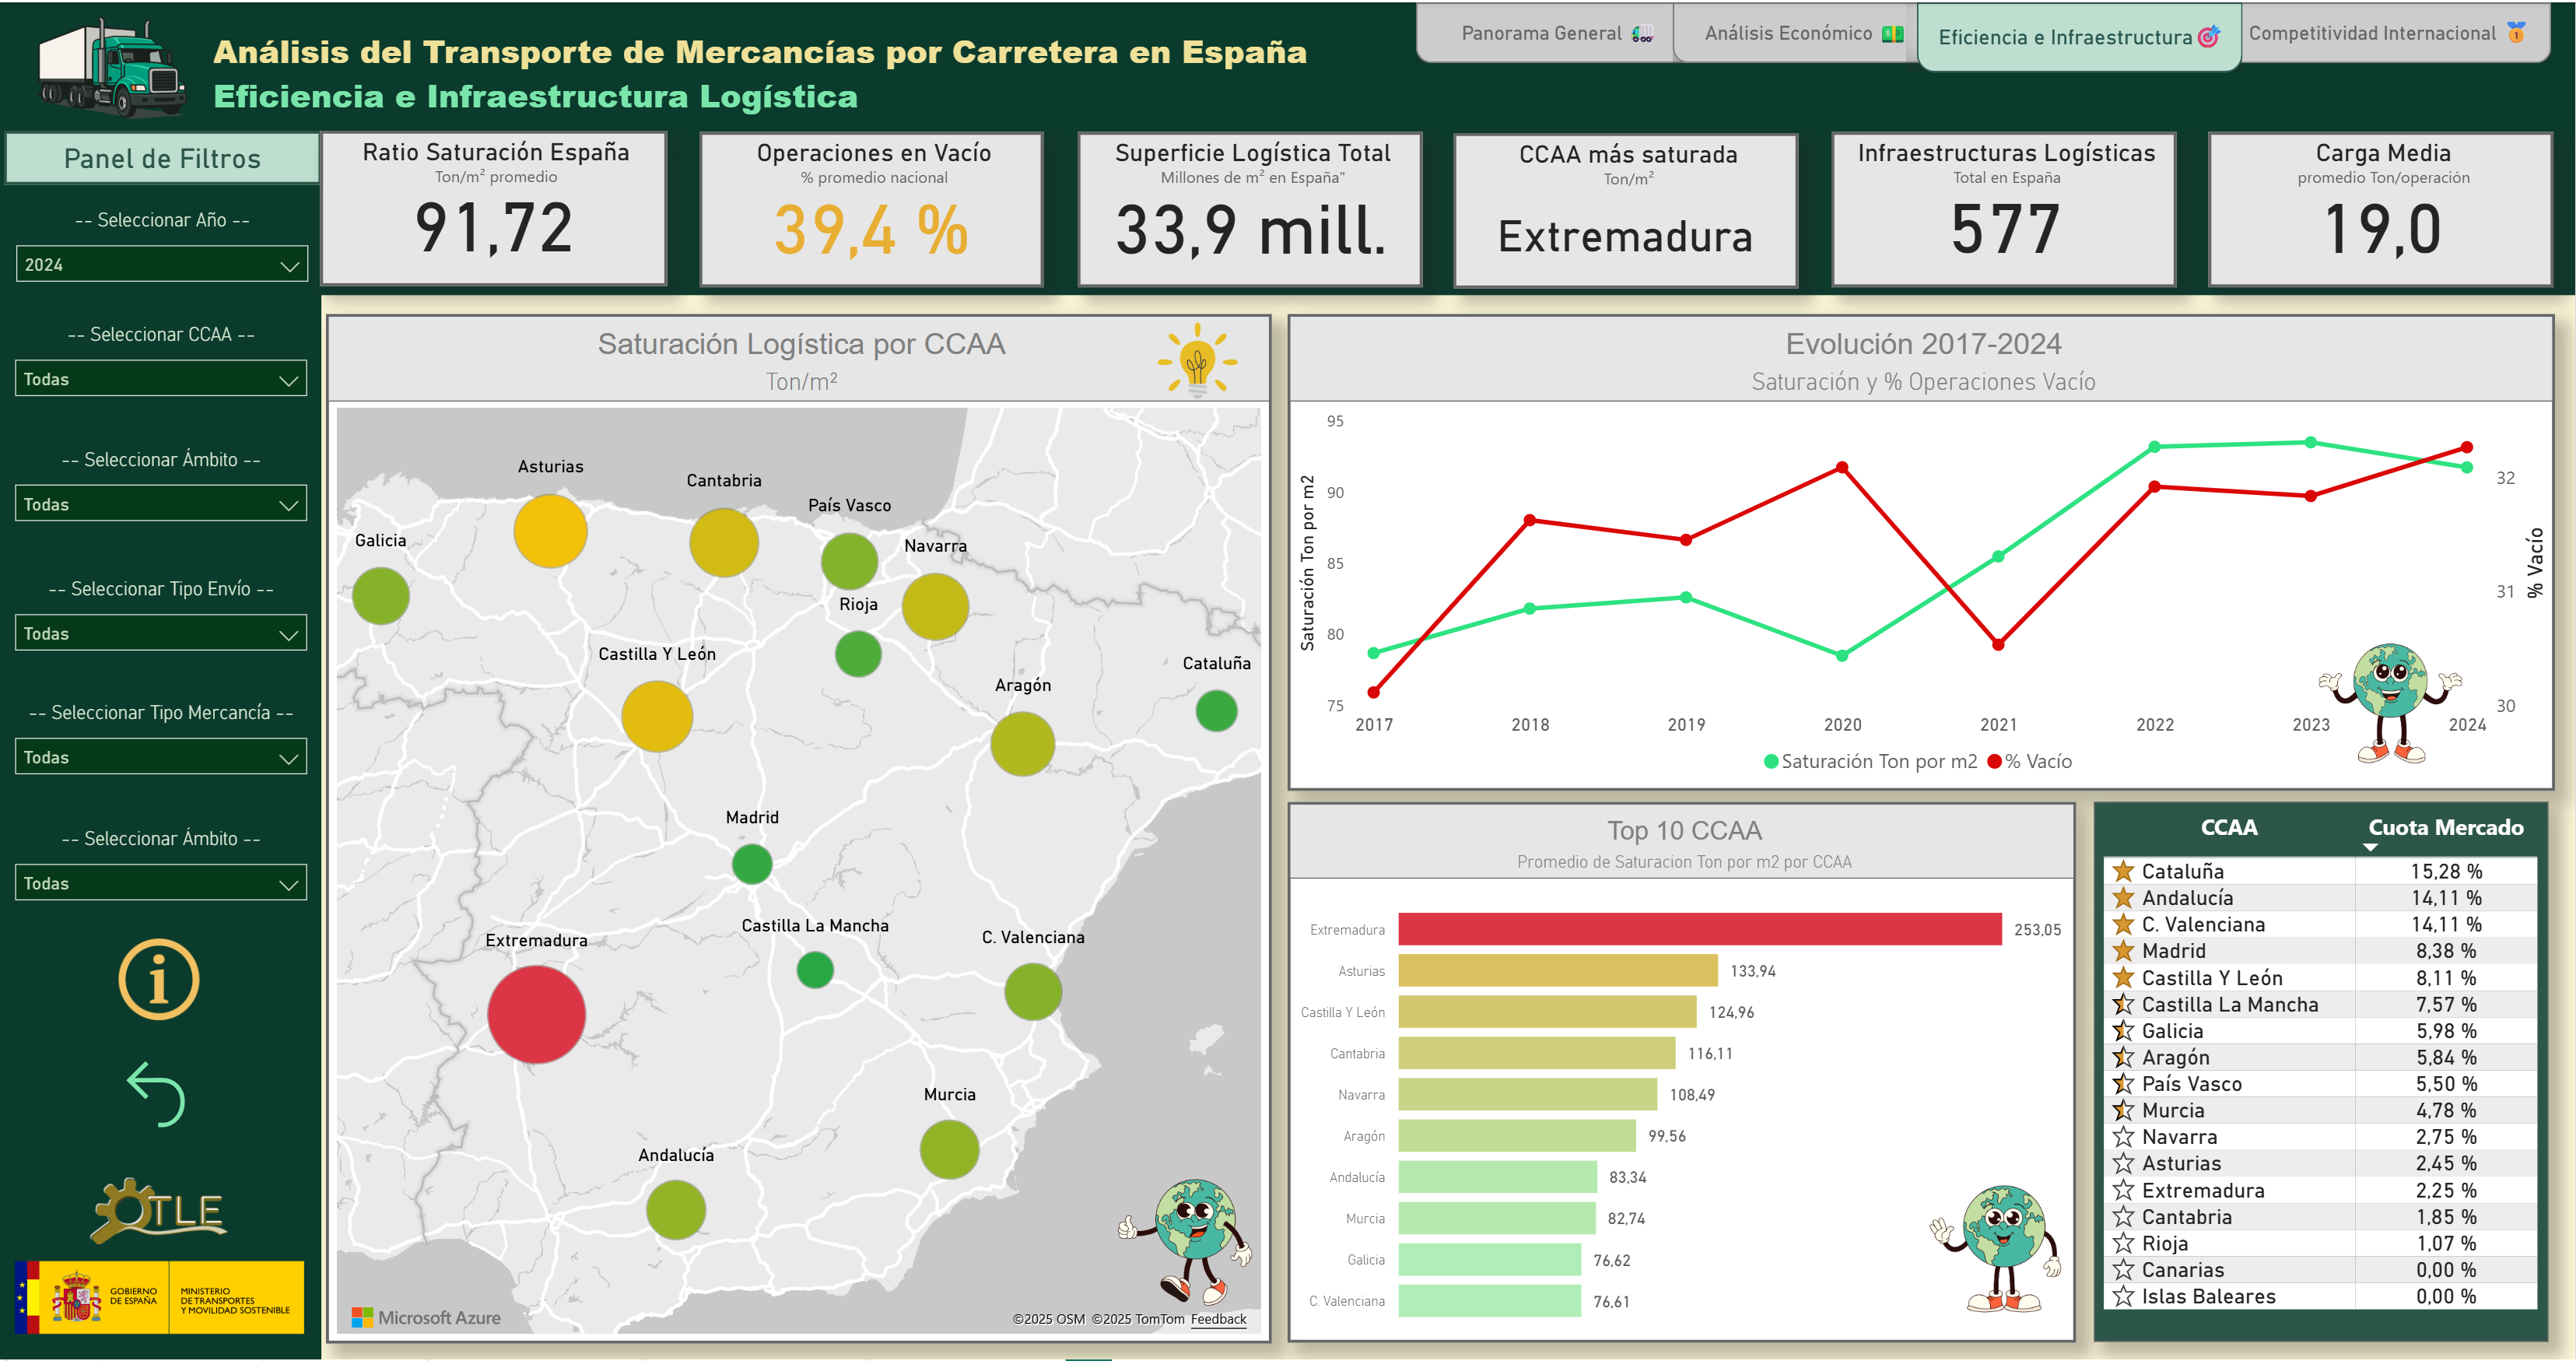

This screenshot's page, from the dashboard's own definition file:
{"tool":"powerbi","page":{"name":"Eficiencia e Infraestructura","canvas":[1747,920],"ordinal":3},"visuals":[{"type":"group","id":"g1","title":"Panel diseño","box":[0,0,1747,919.7],"z":0},{"type":"shape","box":[0,0,1747,198.6],"z":0,"group":"g1"},{"type":"shape","box":[0,81.2,218.5,838.5],"z":1000,"group":"g1"},{"type":"cardVisual","title":"Infraestructuras Logísticas","fields":{"Data":["Medidas Eficiencia e Infraestructura.Tipos Infraestructura"]},"box":[1242.3,87.8,234.2,105],"z":1000},{"type":"textbox","box":[140.3,12.6,782.4,71],"z":2000,"group":"g1"},{"type":"image","title":"Info Pag 3","box":[75.5,626.8,65.6,71],"z":2000},{"type":"slicer","title":"-- Seleccionar Año --","fields":{"Values":["Dim Año.Año"]},"box":[1.8,140.1,218,63.9],"z":3000},{"type":"slicer","title":"-- Seleccionar CCAA --","fields":{"Values":["CCAA Dim.CCAA"]},"box":[0.9,218,218,63],"z":4000},{"type":"slicer","title":"-- Seleccionar Ámbito --","fields":{"Values":["Tipo Envio Dim.Ámbito"]},"box":[0.9,302,218,63.9],"z":5000},{"type":"slicer","title":"-- Seleccionar Tipo Envío --","fields":{"Values":["Tipo Envio Dim.Tipo Envío"]},"box":[1,390.4,218,63.9],"z":6000},{"type":"textbox","box":[3.2,87,215.2,36.4],"z":7000},{"type":"cardVisual","title":"Ratio Saturación España","fields":{"Data":["Avg(KPI Saturación Logística.Saturacion Ton por m2)"]},"box":[217.6,87,235,105],"z":8000},{"type":"cardVisual","title":"Operaciones en Vacío","fields":{"Data":["Medidas Eficiencia e Infraestructura.Promedio Op Vacio (%)"]},"box":[474.8,87.8,233.4,105],"z":9000},{"type":"cardVisual","title":"Superficie Logística Total","fields":{"Data":["Sum(KPI Saturación Logística.Superficie m2)"]},"box":[731.2,87.8,234.2,105],"z":10000},{"type":"cardVisual","title":"CCAA más saturada","fields":{"Data":["Min(Dim CCAA.CCAA)"]},"box":[985.9,88.6,234.2,105],"z":11000},{"type":"slicer","title":"-- Seleccionar Tipo Mercancía --","fields":{"Values":["Dim Infraestructuras.Tipo Infraestructura"]},"box":[0.9,473.6,218,63],"z":13000},{"type":"azureMap","title":"Saturación Logística por CCAA","fields":{"Category":["Dim CCAA.CCAA","C0516 Infraestructuras Logísticas.Provincia"],"Size":["Avg(KPI Saturación Logística.Saturacion Ton por m2)"]},"box":[221.6,211.2,641.2,697.8],"z":14000},{"type":"shape","box":[1512.6,0,218.2,41.2],"z":15000},{"type":"shape","box":[960.6,0,194.7,41.1],"z":16000},{"type":"shape","box":[1134.7,0,181.2,41.1],"z":17000},{"type":"image","box":[4,846.7,208.9,62.5],"z":18000},{"type":"image","box":[6.3,791.4,204.1,55.8],"z":19000},{"type":"actionButton","box":[77.3,711.3,65.6,57.6],"z":20000},{"type":"shape","box":[1293,0,227.9,47.5],"z":21000},{"type":"cardVisual","title":"Carga Media","fields":{"Data":["Medidas Eficiencia e Infraestructura.Carga media por op"]},"box":[1497.9,87.8,234.2,105],"z":22000},{"type":"lineChart","title":"Evolución 2017-2024","fields":{"Category":["Dim Año.Año"],"Y":["Avg(KPI Saturación Logística.Saturacion Ton por m2)"],"Y2":["Avg(C0285 Operaciones Vacío.% Vacío)"]},"box":[873.6,211.3,859.3,323.6],"z":23000},{"type":"clusteredBarChart","title":"Top 10 CCAA","fields":{"Category":["Dim CCAA.CCAA"],"Y":["Avg(KPI Saturación Logística.Saturacion Ton por m2)"]},"box":[873.2,542.2,534.7,366.8],"z":24000},{"type":"slicer","title":"-- Seleccionar Ámbito --","fields":{"Values":["Dim Infraestructuras.Funcion"]},"box":[1,559.4,218,63.9],"z":25000},{"type":"tableEx","fields":{"Values":["Dim CCAA.CCAA","KPI Cuota Mercado CCAA.Cuota Mercado"]},"box":[1420.4,542,307.8,366],"z":26000},{"type":"image","box":[1567.5,415.4,107.6,119.5],"z":29000},{"type":"image","box":[9.9,0,133.1,86.3],"z":31000},{"type":"image","box":[1303.3,796.8,100.5,99.7],"z":34000},{"type":"image","box":[752.5,791.3,102.1,99.7],"z":35000},{"type":"image","box":[777.9,211.3,70.1,62.9],"z":37000}]}

Visuals, with their boxes in screenshot pixels (x1, y1, x2, y2), scaled from the page's 1747x920 canvas onto the 2576x1361 screenshot:
"Panel diseño" group: 0/0/2575/1360
shape: 0/0/2575/294
shape: 0/120/322/1360
"Infraestructuras Logísticas" cardVisual: 1831/130/2177/286
textbox: 207/19/1361/124
"Info Pag 3" image: 111/928/208/1033
"-- Seleccionar Año --" slicer: 2/207/324/302
"-- Seleccionar CCAA --" slicer: 2/322/323/416
"-- Seleccionar Ámbito --" slicer: 2/447/323/542
"-- Seleccionar Tipo Envío --" slicer: 2/577/323/672
textbox: 5/128/322/183
"Ratio Saturación España" cardVisual: 321/128/668/284
"Operaciones en Vacío" cardVisual: 700/130/1044/286
"Superficie Logística Total" cardVisual: 1078/130/1424/286
"CCAA más saturada" cardVisual: 1454/131/1799/286
"-- Seleccionar Tipo Mercancía --" slicer: 2/700/323/794
"Saturación Logística por CCAA" azureMap: 327/313/1272/1345
shape: 2231/0/2552/61
shape: 1417/0/1704/61
shape: 1674/0/1940/61
image: 6/1253/314/1345
image: 9/1171/310/1254
actionButton: 114/1052/211/1138
shape: 1907/0/2242/70
"Carga Media" cardVisual: 2209/130/2554/286
"Evolución 2017-2024" lineChart: 1288/313/2555/791
"Top 10 CCAA" clusteredBarChart: 1288/802/2076/1345
"-- Seleccionar Ámbito --" slicer: 2/827/323/922
tableEx - Dim CCAA.CCAA x KPI Cuota Mercado CCAA.Cuota Mercado: 2094/802/2548/1343
image: 2311/615/2470/791
image: 15/0/211/128
image: 1922/1179/2070/1326
image: 1109/1170/1260/1318
image: 1147/313/1250/405
